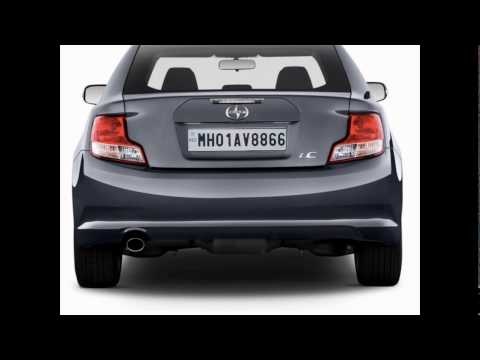number_plate: (185, 122, 289, 154)
